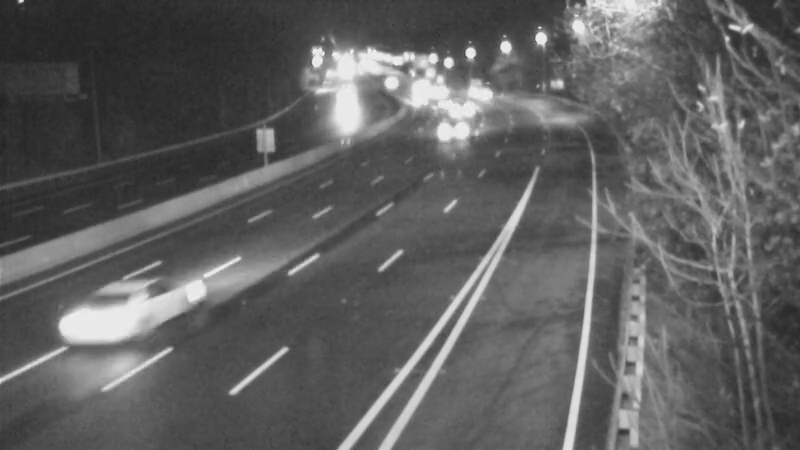vehicle: (51, 267, 161, 377), (364, 59, 414, 109), (416, 68, 466, 118), (444, 59, 494, 109), (392, 73, 442, 123), (435, 85, 485, 135), (427, 109, 477, 159), (316, 76, 366, 126)
